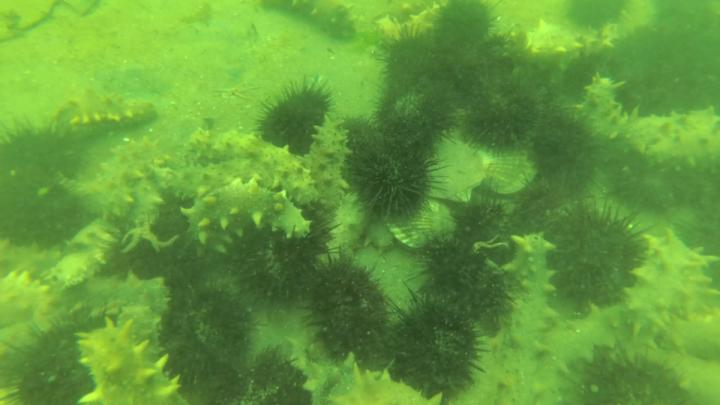echinus: (379, 290, 484, 401), (162, 278, 257, 391), (545, 205, 646, 306), (306, 258, 390, 366), (235, 221, 337, 306), (418, 237, 515, 325), (7, 317, 103, 405), (1, 169, 84, 247), (208, 347, 316, 405), (354, 147, 436, 222), (4, 119, 88, 188), (603, 160, 707, 215), (575, 354, 687, 405), (374, 79, 450, 153), (258, 79, 332, 151), (462, 91, 535, 155), (383, 31, 453, 93), (528, 108, 590, 176), (431, 1, 493, 54), (568, 1, 631, 30)
holothurian: (577, 73, 720, 172), (482, 231, 562, 405), (620, 228, 720, 348), (183, 128, 325, 209), (182, 176, 313, 257), (530, 298, 629, 405), (76, 319, 193, 405), (150, 157, 303, 206), (88, 134, 168, 222), (75, 272, 174, 332), (522, 15, 623, 69), (307, 112, 355, 213), (52, 91, 162, 135), (260, 1, 361, 46), (2, 269, 57, 325)
scallop: (428, 132, 486, 206), (386, 204, 459, 252), (483, 151, 537, 197)
